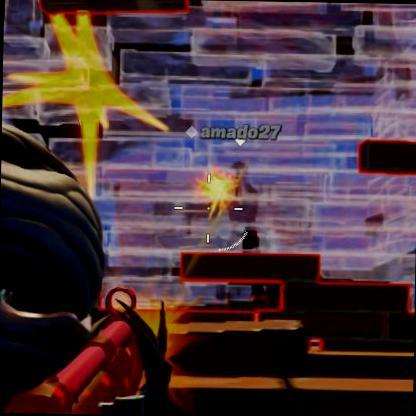person: (209, 159, 266, 300)
